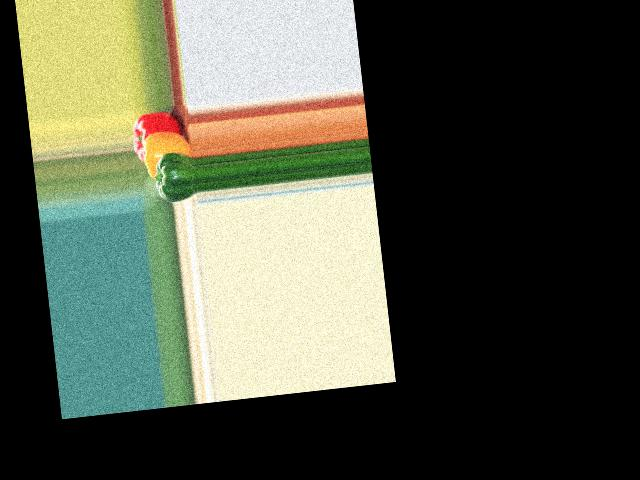bell_pepper: (130, 109, 190, 162)
